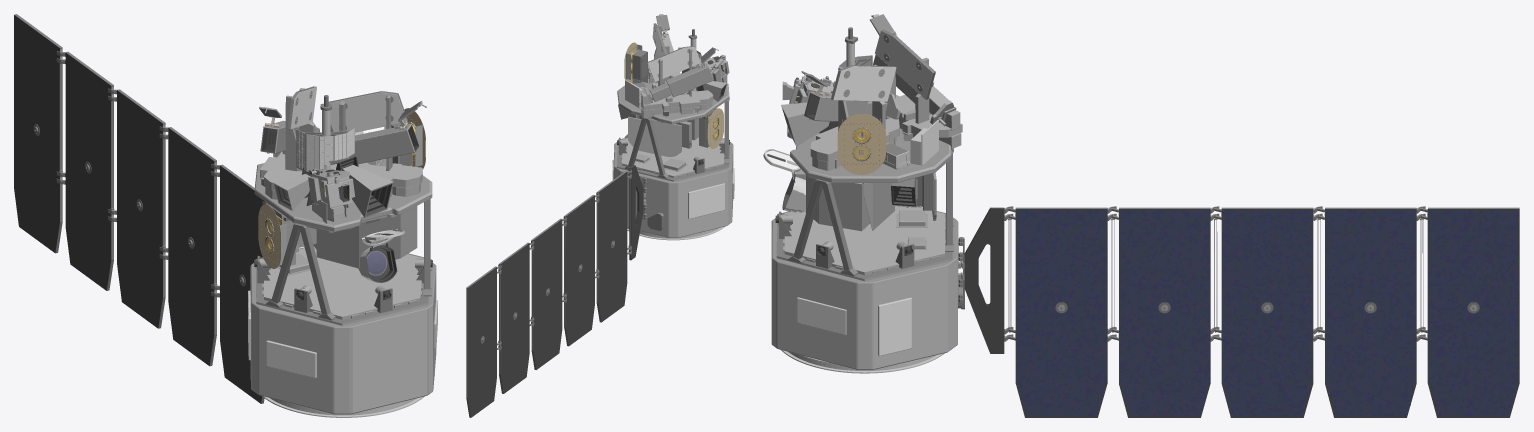
The model's file is ICON.glb.
3 renders of one model, left to right at view 1: azimuth 30°, elevation 25°; view 2: azimuth 150°, elevation 25°; view 3: azimuth 270°, elevation 25°, orthographic. The views are drawn at different scales.
Parts seen in each view (by area): view 1: BUS; view 2: BUS; view 3: BUS.
Boxes of the visible parts, x1=… form: BUS: x1=14, y1=14, x2=437, y2=417; BUS: x1=466, y1=14, x2=734, y2=417; BUS: x1=763, y1=14, x2=1519, y2=417.
Bounding box in the file's own units: 87.79 × 178 × 323.
